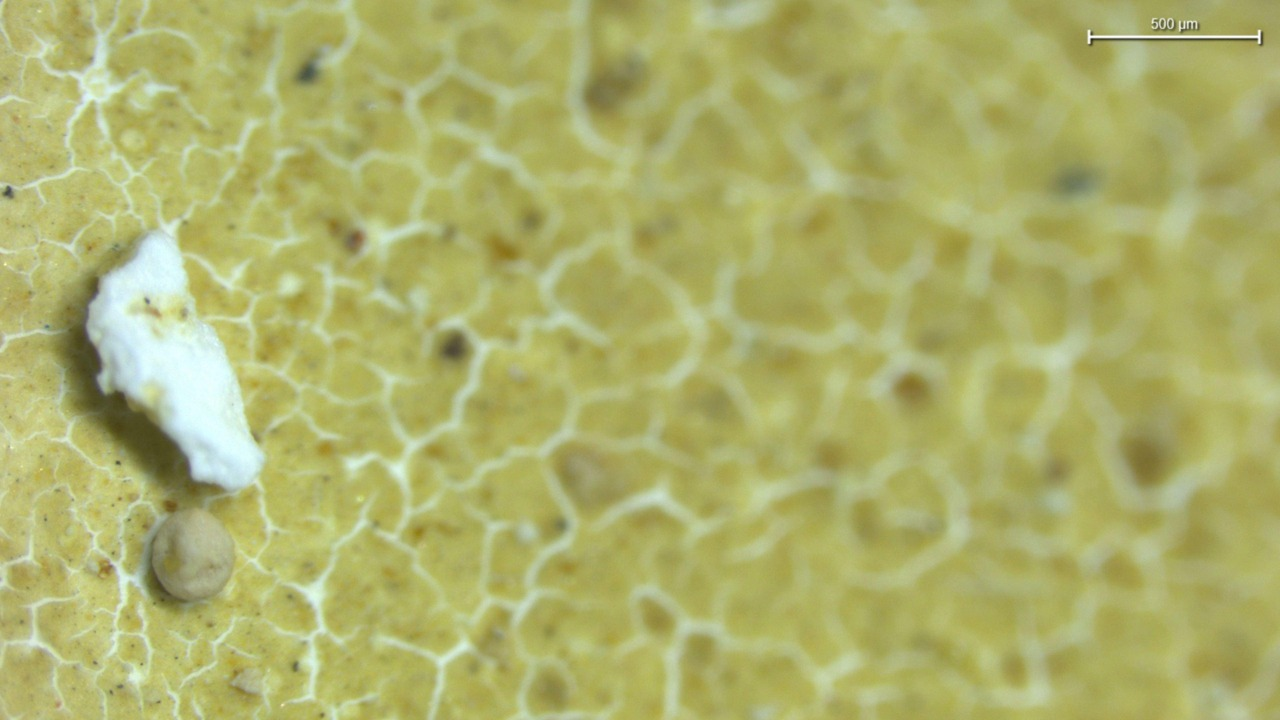microplastic_fragment: (86, 230, 263, 490)
